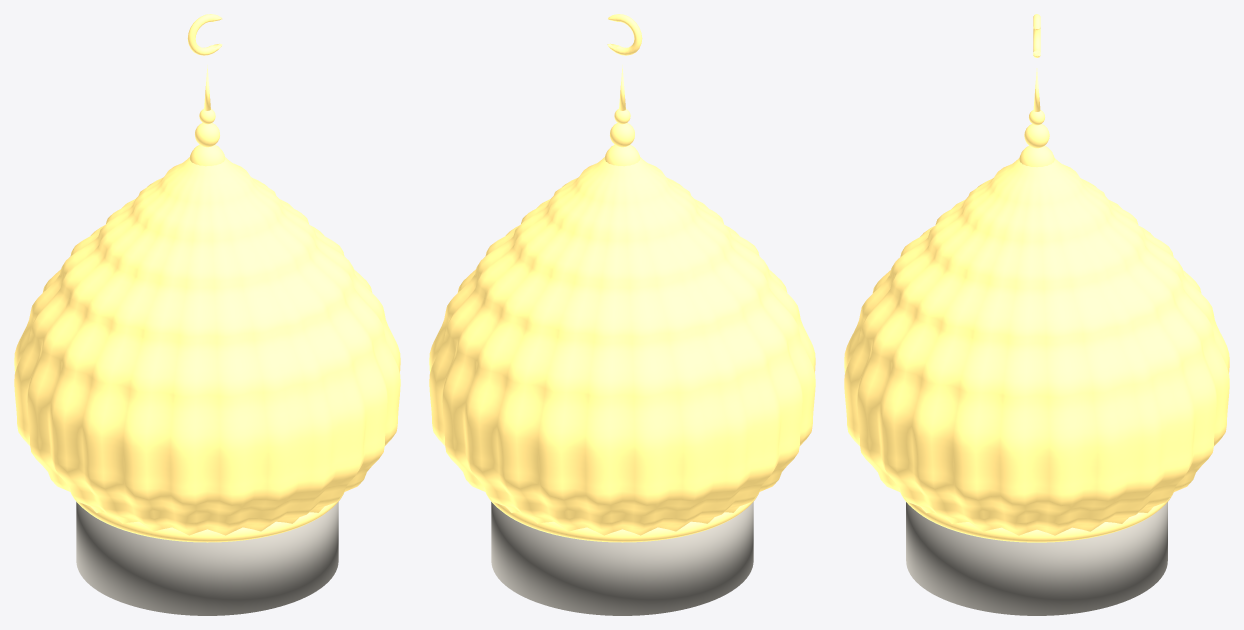
The model's file is dome_ribbed.glb.
3 views of the same model, side by side, from view 1: azimuth 30°, elevation 25°; view 2: azimuth 150°, elevation 25°; view 3: azimuth 270°, elevation 25° (orthographic).
Visible parts, largest first — view 1: ribbed; view 2: ribbed; view 3: ribbed.
Part boxes in pixels (box(x1,y1,x2,y2)): ribbed: box(14, 14, 400, 615); ribbed: box(429, 14, 815, 615); ribbed: box(844, 14, 1229, 615).
Size of the model in its own units: 2.12 by 3.31 by 2.12.
